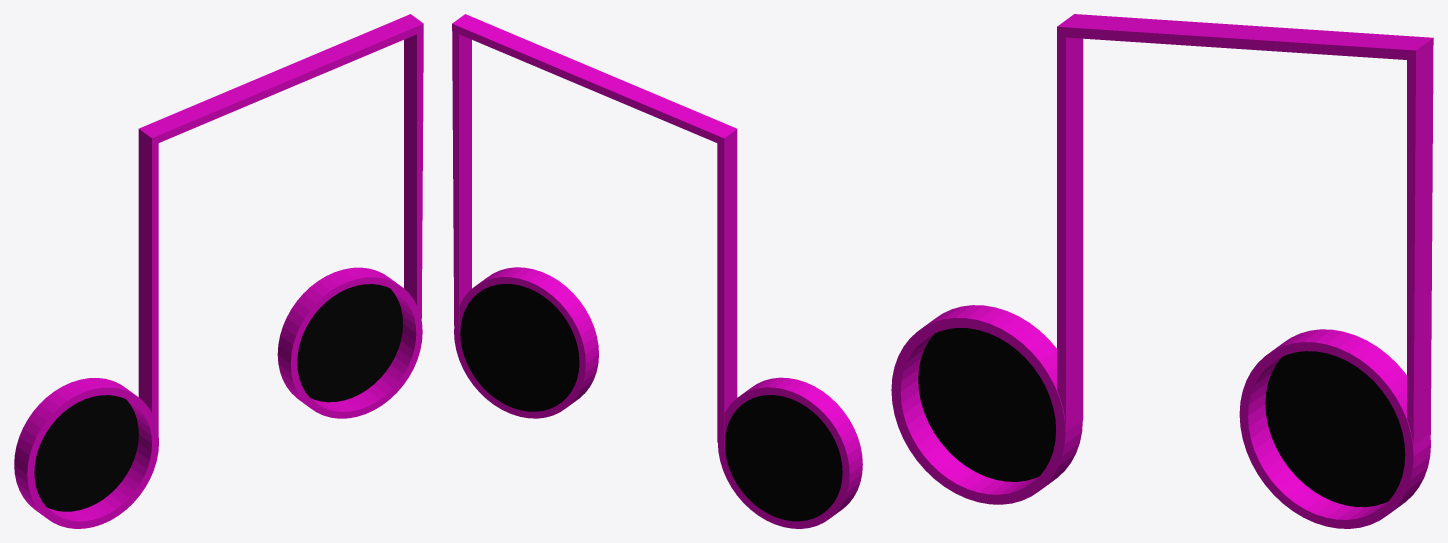
The model's file is music.glb.
3 views of the same model, side by side, from view 1: azimuth 30°, elevation 25°; view 2: azimuth 150°, elevation 25°; view 3: azimuth 330°, elevation 25° (orthographic). The views are drawn at different scales.
Visible parts, largest first — view 1: Curve.002; view 2: Curve.002; view 3: Curve.002.
Boxes of the visible parts, x1=… form: Curve.002: x1=14, y1=14, x2=423, y2=528; Curve.002: x1=452, y1=14, x2=862, y2=528; Curve.002: x1=891, y1=14, x2=1433, y2=528.
Size of the model in its own units: 9.21 by 9.37 by 0.5438.
